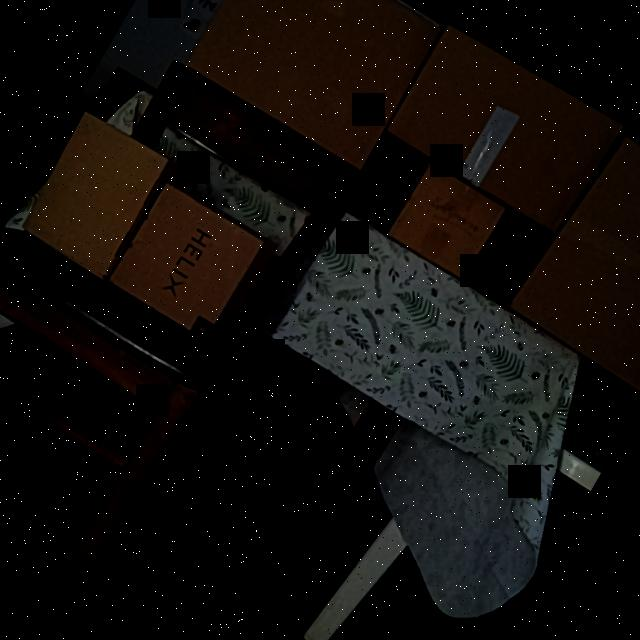box: (385, 24, 622, 233), (182, 0, 447, 172), (519, 136, 640, 389), (17, 112, 172, 278), (107, 183, 264, 340), (387, 163, 508, 282)
